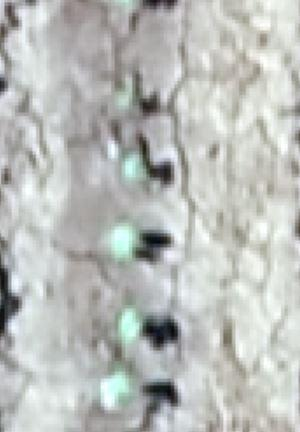cotton: (101, 375, 130, 408), (112, 223, 137, 258), (124, 305, 142, 340), (127, 150, 148, 178), (122, 75, 141, 101)
